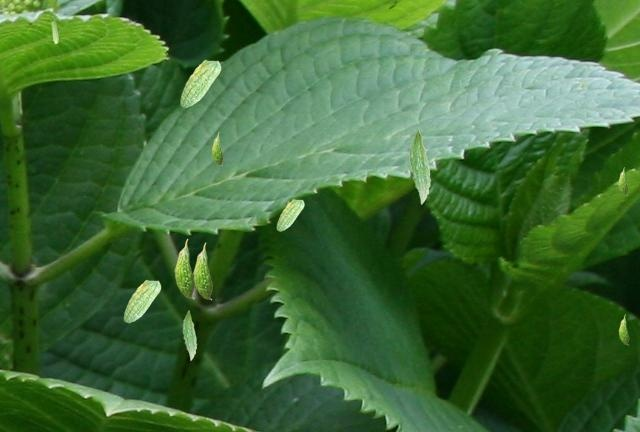ampalaya: (180, 59, 221, 108), (409, 129, 431, 205), (123, 279, 161, 323), (174, 238, 194, 299), (192, 242, 213, 300), (276, 198, 304, 231), (182, 310, 197, 361), (211, 131, 223, 166), (618, 314, 629, 345), (618, 166, 628, 195), (50, 19, 59, 44)
